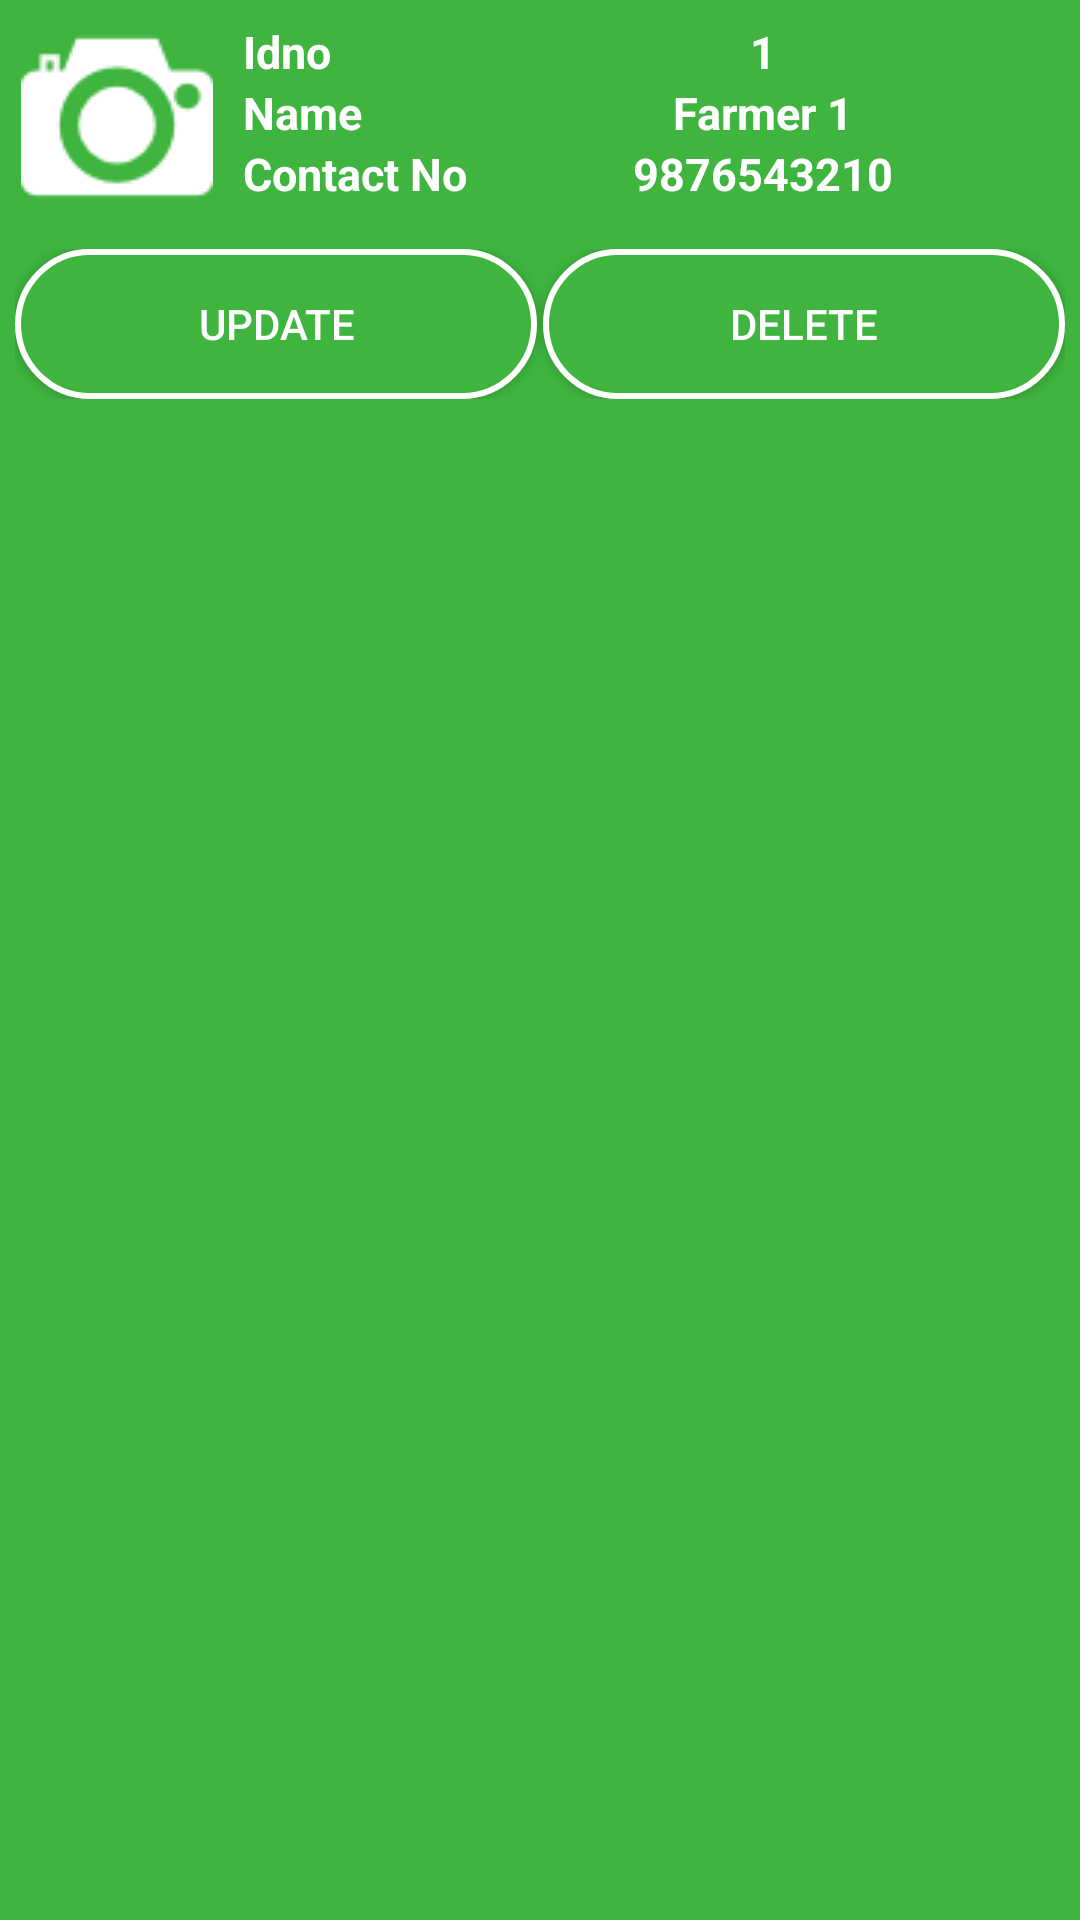

Screen size 1080*1920. Icon name, then its box in pixels as (x1, y1, x2, y2):
photo camera: (21, 38, 213, 196)
